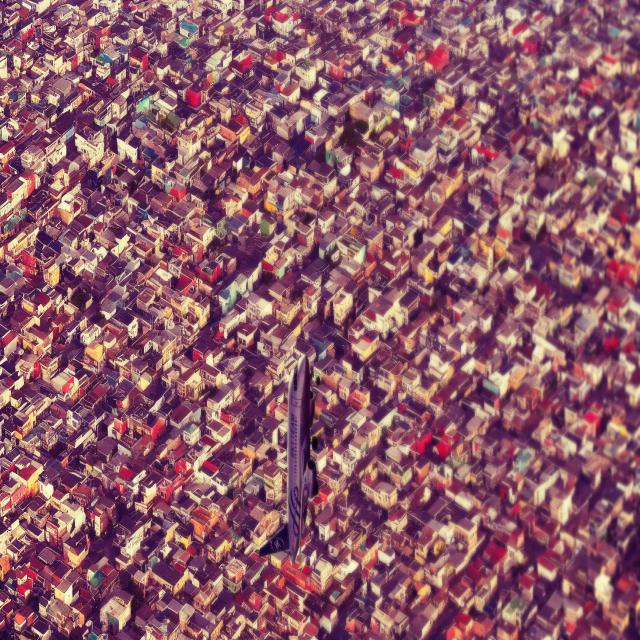airplane: (286, 352, 317, 565)
